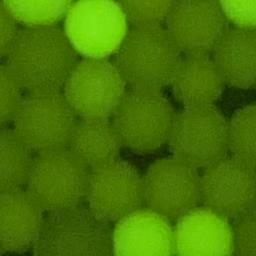negative: (8, 25, 76, 95), (115, 25, 181, 93), (23, 145, 90, 210), (38, 202, 115, 256), (138, 154, 201, 217), (114, 89, 175, 154), (83, 157, 143, 221), (170, 100, 229, 165), (64, 58, 126, 118), (15, 91, 75, 152), (198, 161, 256, 219), (168, 0, 228, 52), (0, 185, 40, 256), (172, 54, 226, 105), (68, 116, 121, 164), (216, 30, 256, 87), (224, 98, 256, 164), (0, 126, 31, 190), (0, 58, 26, 126), (115, 0, 173, 28), (233, 211, 256, 256), (0, 2, 18, 59)
positive: (60, 0, 130, 61), (107, 207, 178, 256), (171, 206, 237, 256), (2, 0, 75, 31), (214, 0, 256, 31)
